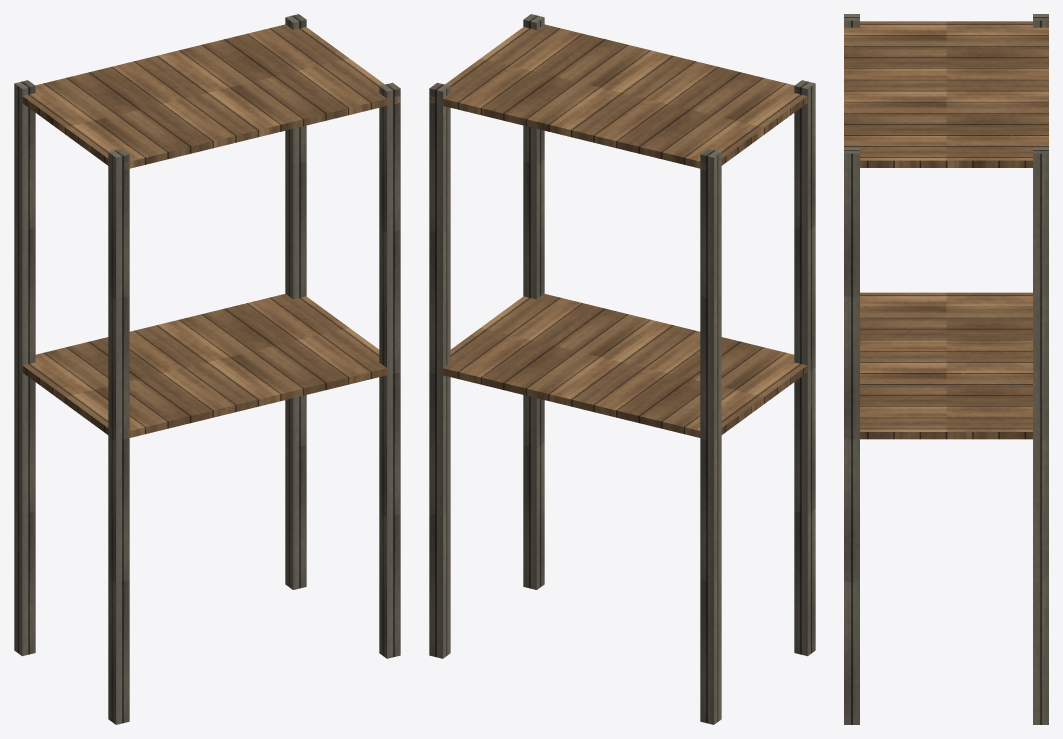
Rendered from Frame_Scaffold_1_LOD2.gltf.
3 renders of one model, left to right at view 1: azimuth 30°, elevation 25°; view 2: azimuth 150°, elevation 25°; view 3: azimuth 270°, elevation 25°, orthographic.
Parts seen in each view (by area): view 1: Frame_Scaffold_1_LOD2; view 2: Frame_Scaffold_1_LOD2; view 3: Frame_Scaffold_1_LOD2.
Part boxes in pixels (box(x1,y1,x2,y2)): Frame_Scaffold_1_LOD2: box(14, 14, 400, 724); Frame_Scaffold_1_LOD2: box(429, 14, 815, 724); Frame_Scaffold_1_LOD2: box(844, 14, 1048, 724).
Bounding box in the file's own units: 2.1 × 4 × 1.3.
2 materials, 2 textured.
